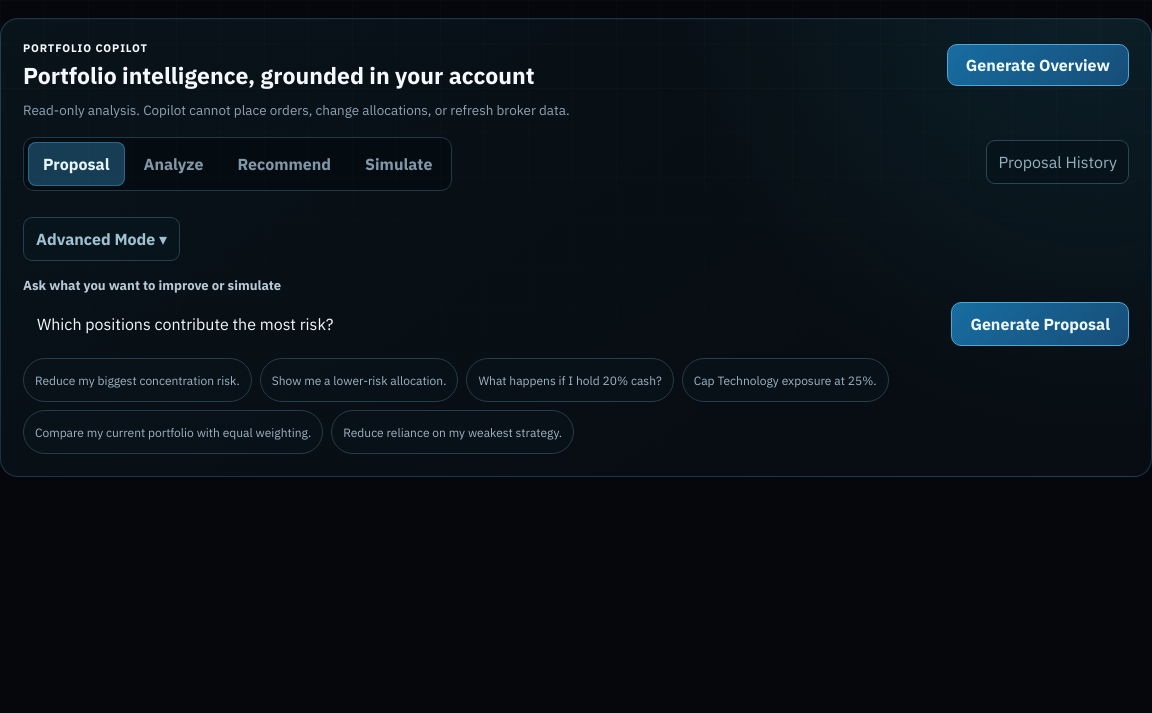
PortfolioCopilotPanel › submits a question and renders grounded evidence
Click the button "Analyze" at [173, 164], box [128,142,218,186]
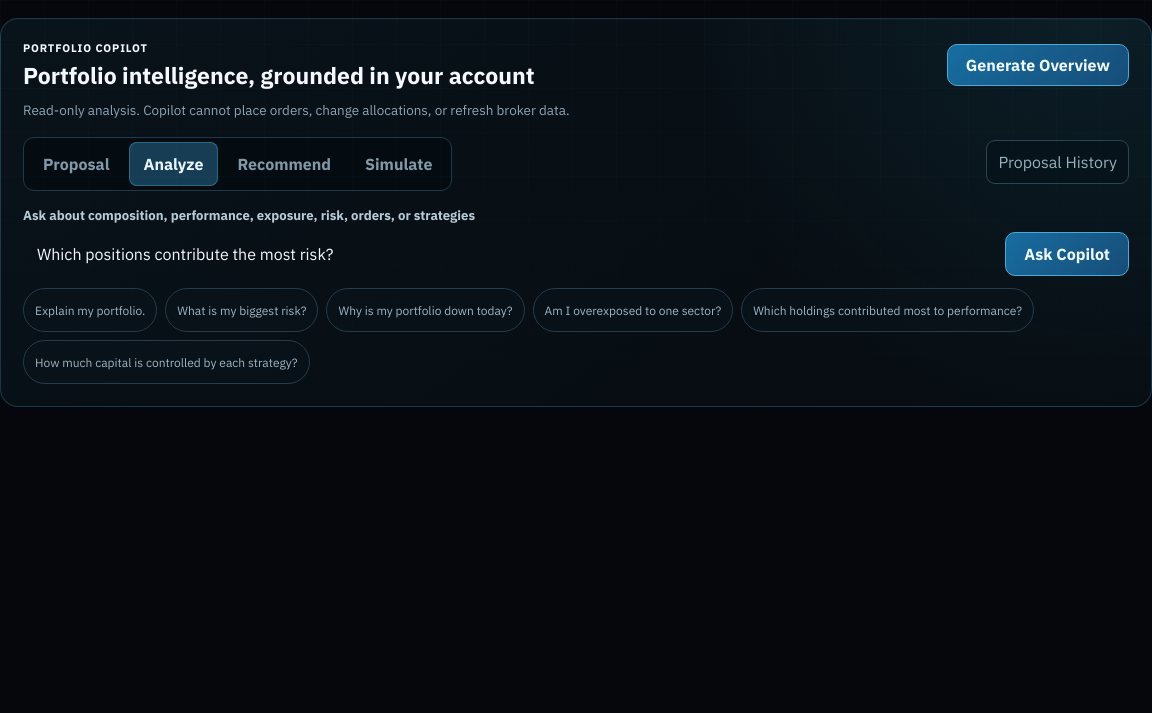
Type "How much cash do I have?" into the field labelled "Ask about composition" at [509, 254], box [23,232,995,276]
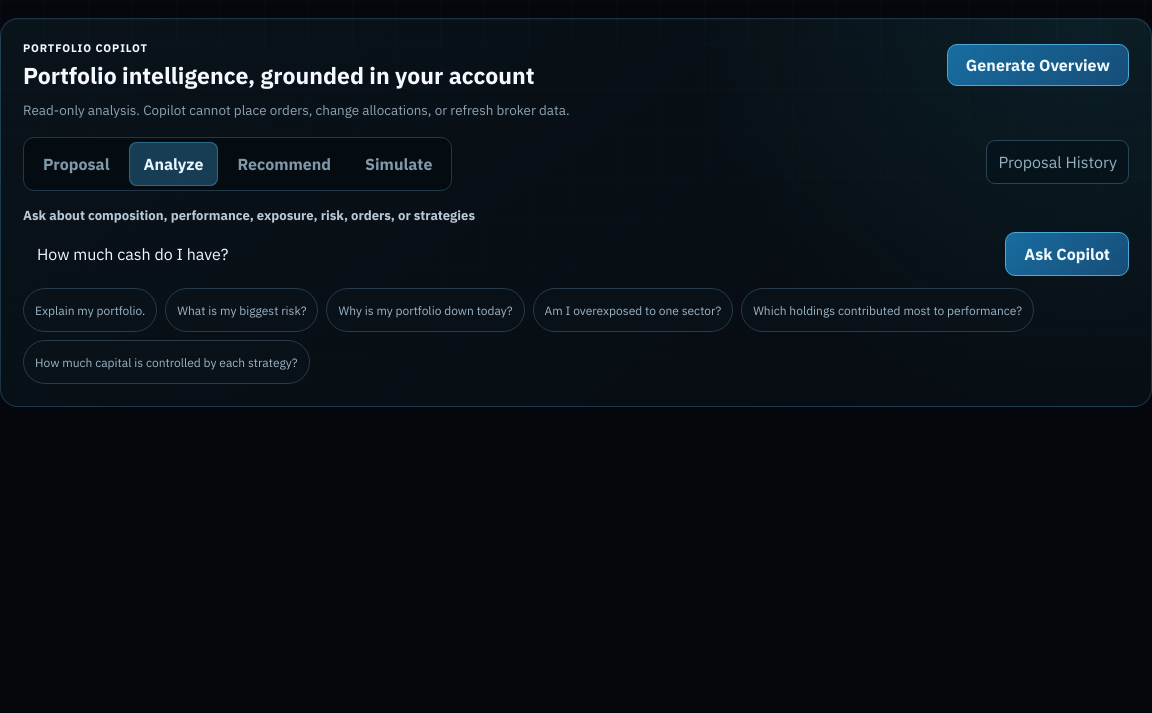
Click the button "Ask Copilot" at [1067, 254], box [1005,232,1129,276]
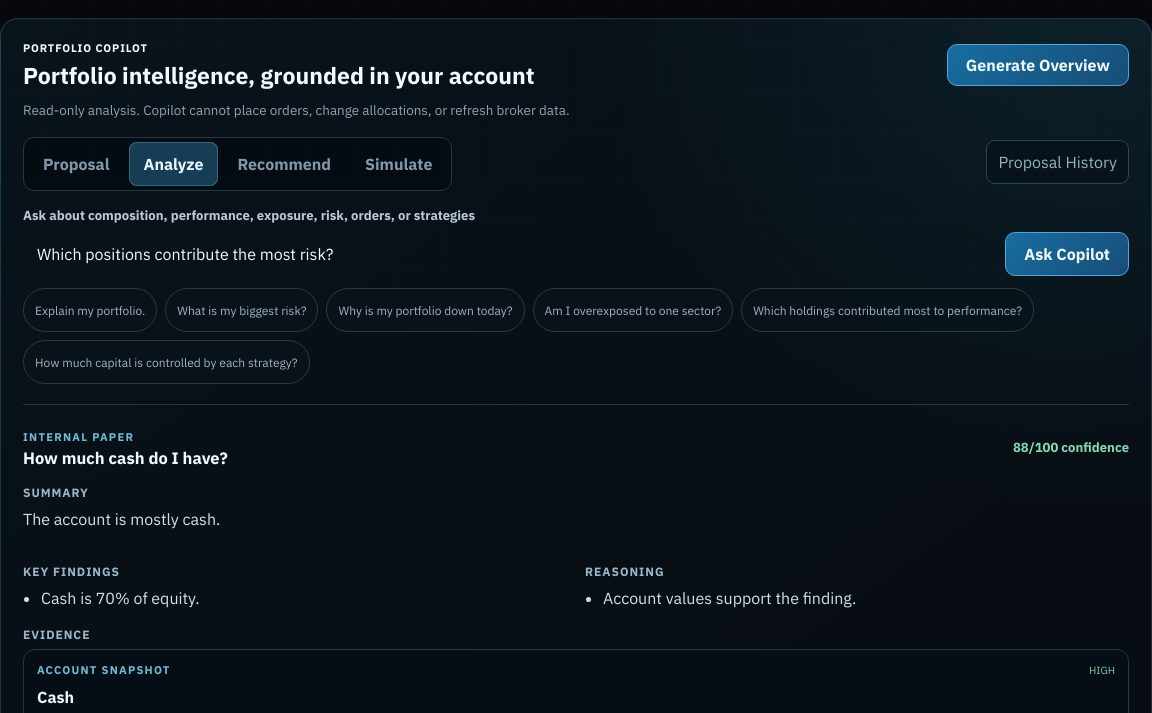
expect the text "The account is mostly cash." is shown: met, box [23,509,220,529]
expect the text "88/100 confidence" is shown: met, box [1013,439,1129,456]
